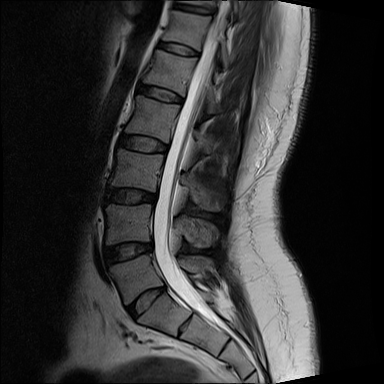Degenerative Disc Disease (DDD): (121, 282, 168, 327), (102, 236, 155, 271), (171, 2, 217, 18)
Normal IVD: (100, 182, 161, 208), (113, 131, 171, 158), (135, 84, 187, 107), (154, 40, 203, 60)
Spinal Stenosis (SS): (143, 239, 159, 260)
